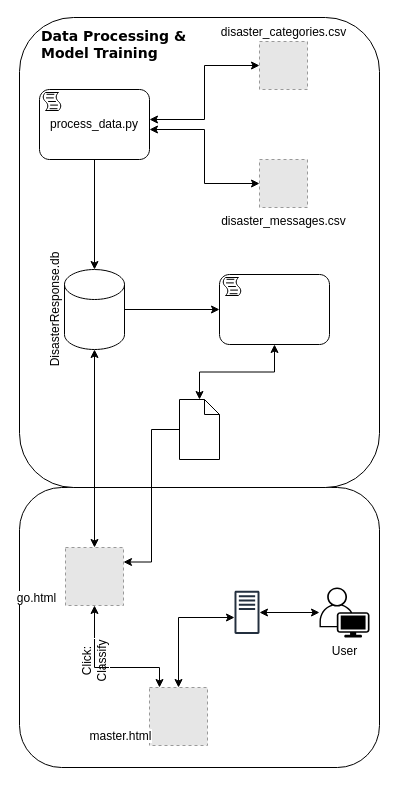
Some shapes in this 397 by 785 pixel diagram are drawn without their labels. Grey dashed boxes stand in for pictures. The box of each missing label's shape, as (x1, y1, x2, y2) in pixels:
classifier.pkl: (178, 398, 220, 460)
Flask App localhost:3001: (234, 590, 259, 634)
train_classifier.py: (218, 274, 330, 344)
Web Application Local Deployment: (18, 486, 380, 768)
